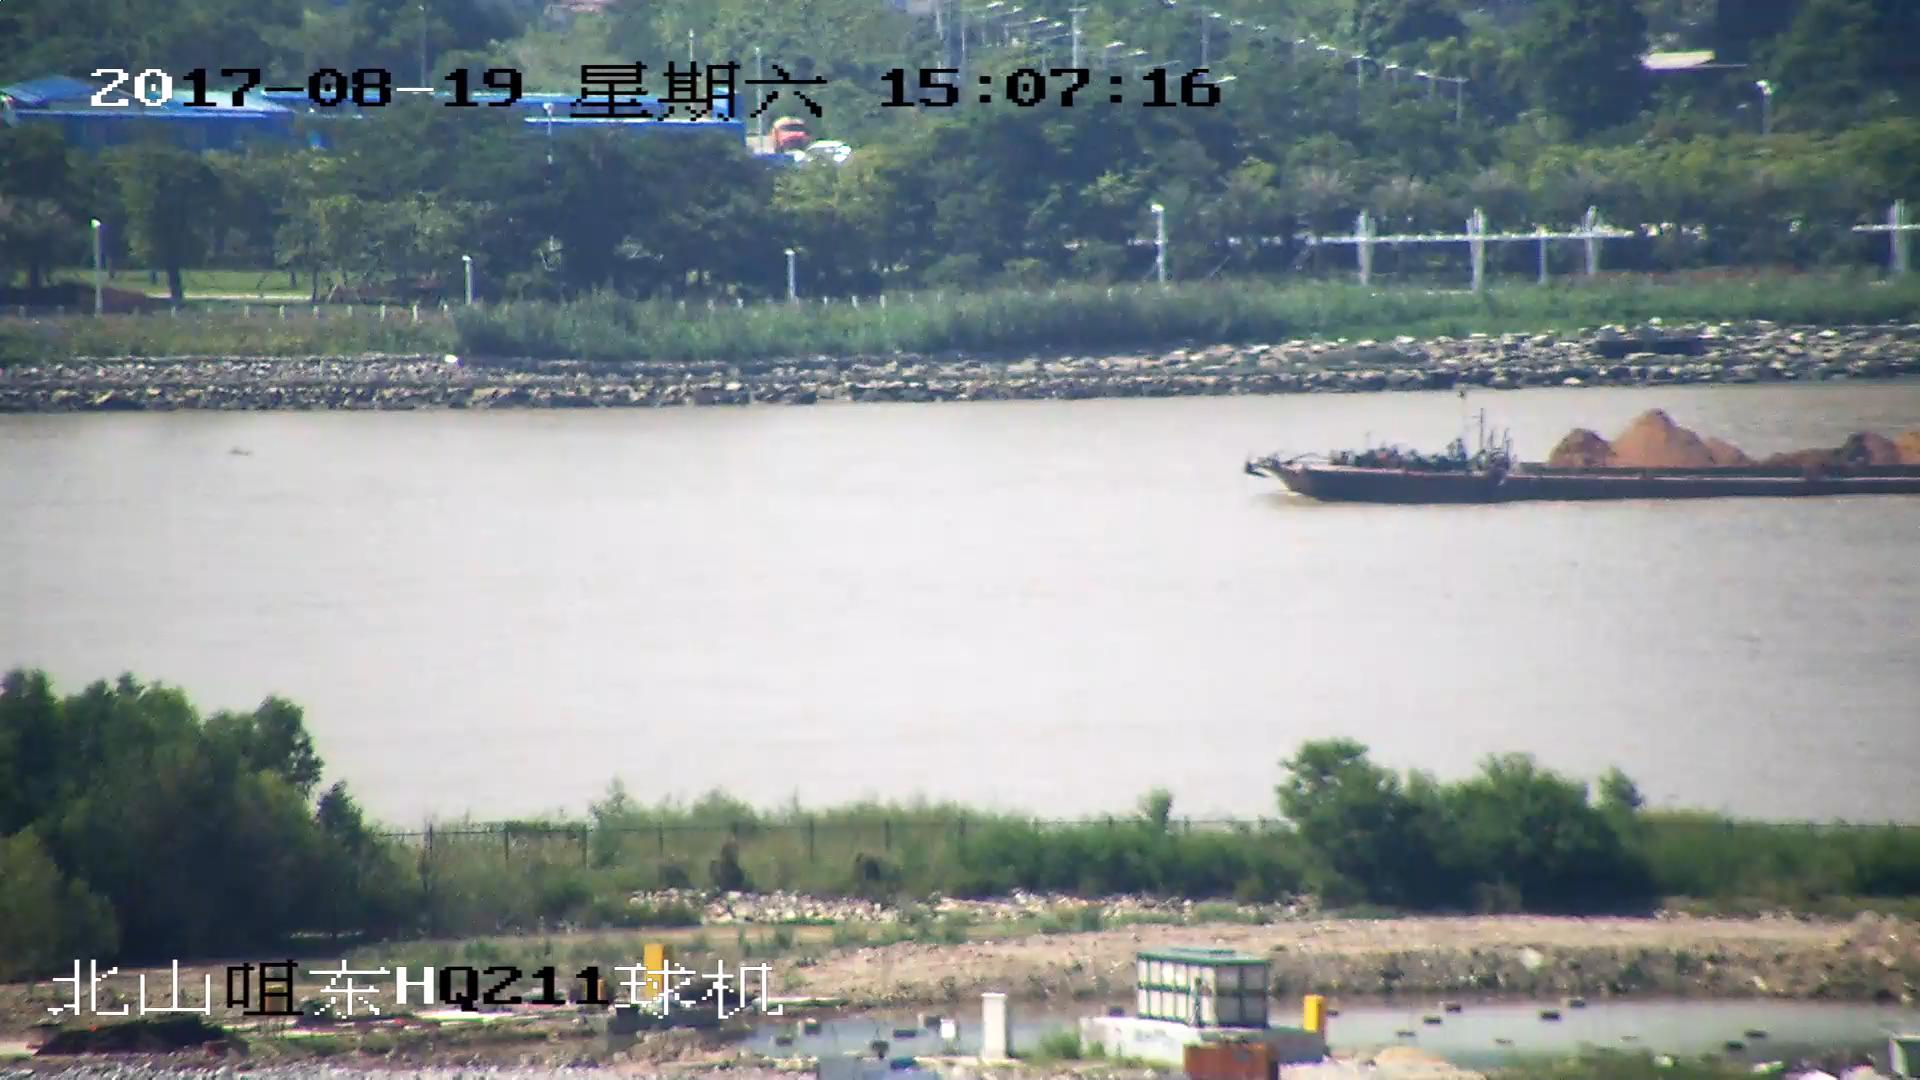Ship: (1244, 406, 1920, 510)
